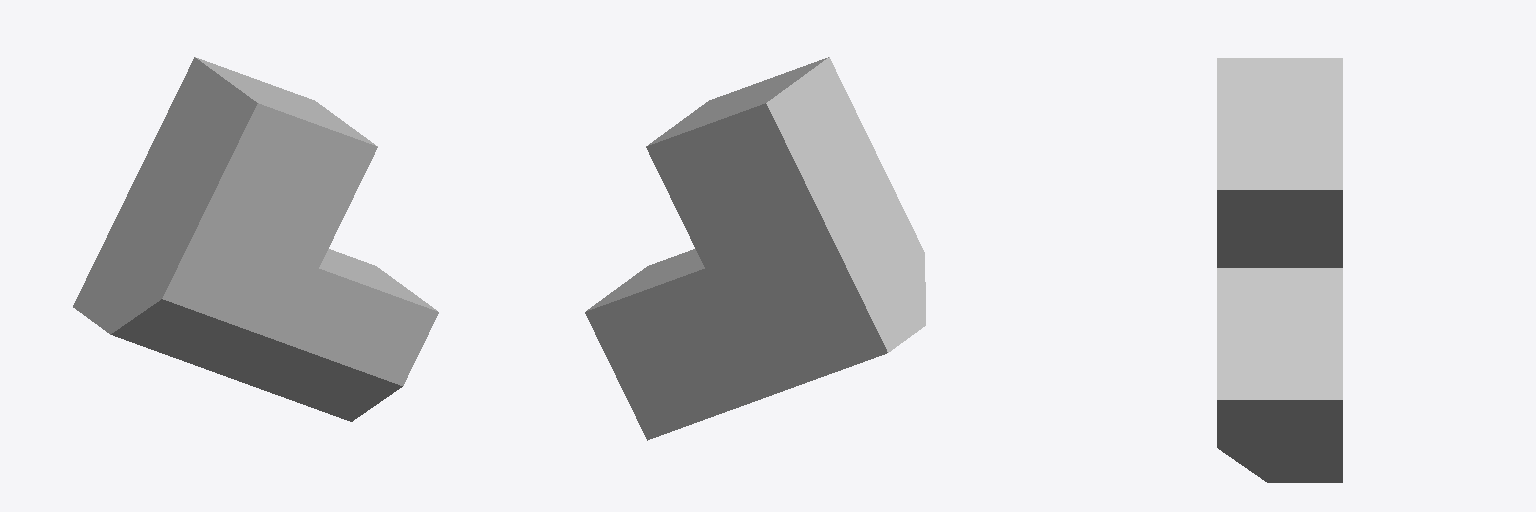
File: concord2rot.obj
3 renders of one model, left to right at view 1: azimuth 30°, elevation 25°; view 2: azimuth 150°, elevation 25°; view 3: azimuth 270°, elevation 25°, orthographic.
Visible parts, largest first — view 1: ceil_back_Body1.028, left_back_Body1.025, slope_back_Body1.027, back2_back_Body1.024, back1_back_Body1.022; view 2: floor_back_Body1.029, left_back_Body1.025, back2_back_Body1.024, back1_back_Body1.022; view 3: back1_back_Body1.022, back2_back_Body1.024, right2_back_Body1.023, right1_back_Body1.021.
Part boxes in pixels (left/top/right/bottom): ceil_back_Body1.028: left=162, top=103, right=438, bottom=385; left_back_Body1.025: left=73, top=57, right=257, bottom=334; slope_back_Body1.027: left=111, top=299, right=402, bottom=421; back2_back_Body1.024: left=195, top=57, right=377, bottom=146; back1_back_Body1.022: left=319, top=249, right=436, bottom=310; floor_back_Body1.029: left=585, top=103, right=887, bottom=440; left_back_Body1.025: left=766, top=57, right=925, bottom=352; back2_back_Body1.024: left=646, top=57, right=828, bottom=146; back1_back_Body1.022: left=587, top=249, right=704, bottom=310; back1_back_Body1.022: left=1217, top=268, right=1342, bottom=399; back2_back_Body1.024: left=1217, top=58, right=1342, bottom=189; right2_back_Body1.023: left=1217, top=190, right=1342, bottom=267; right1_back_Body1.021: left=1217, top=400, right=1342, bottom=482.
Bounding box in the file's own units: 13.55 × 15.63 × 4.88.